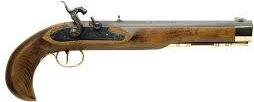gun: (1, 1, 254, 102)
